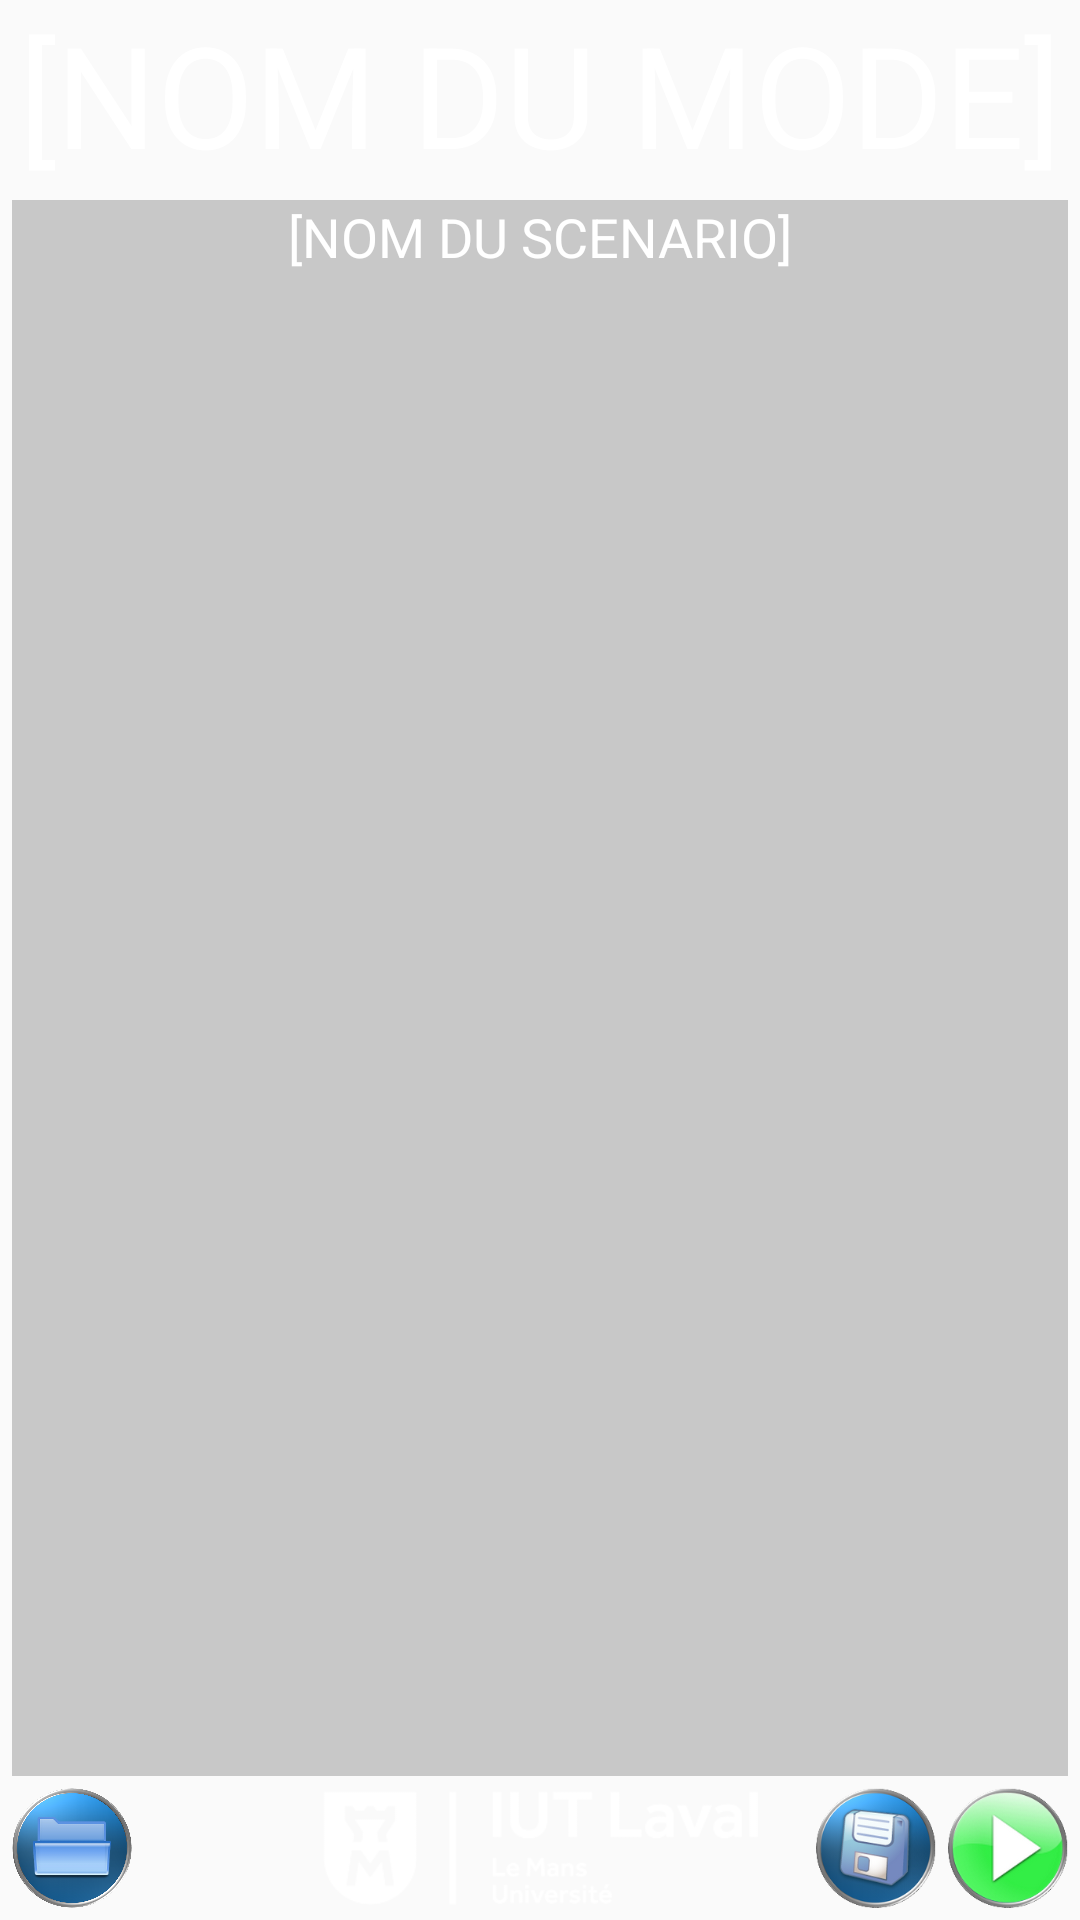

Named icons in this screenshot (1080×1920) and their centers, [x,y]:
enregistrer: [875,1848]
lancer scenario: [1007,1848]
ouvrir: [72,1848]
